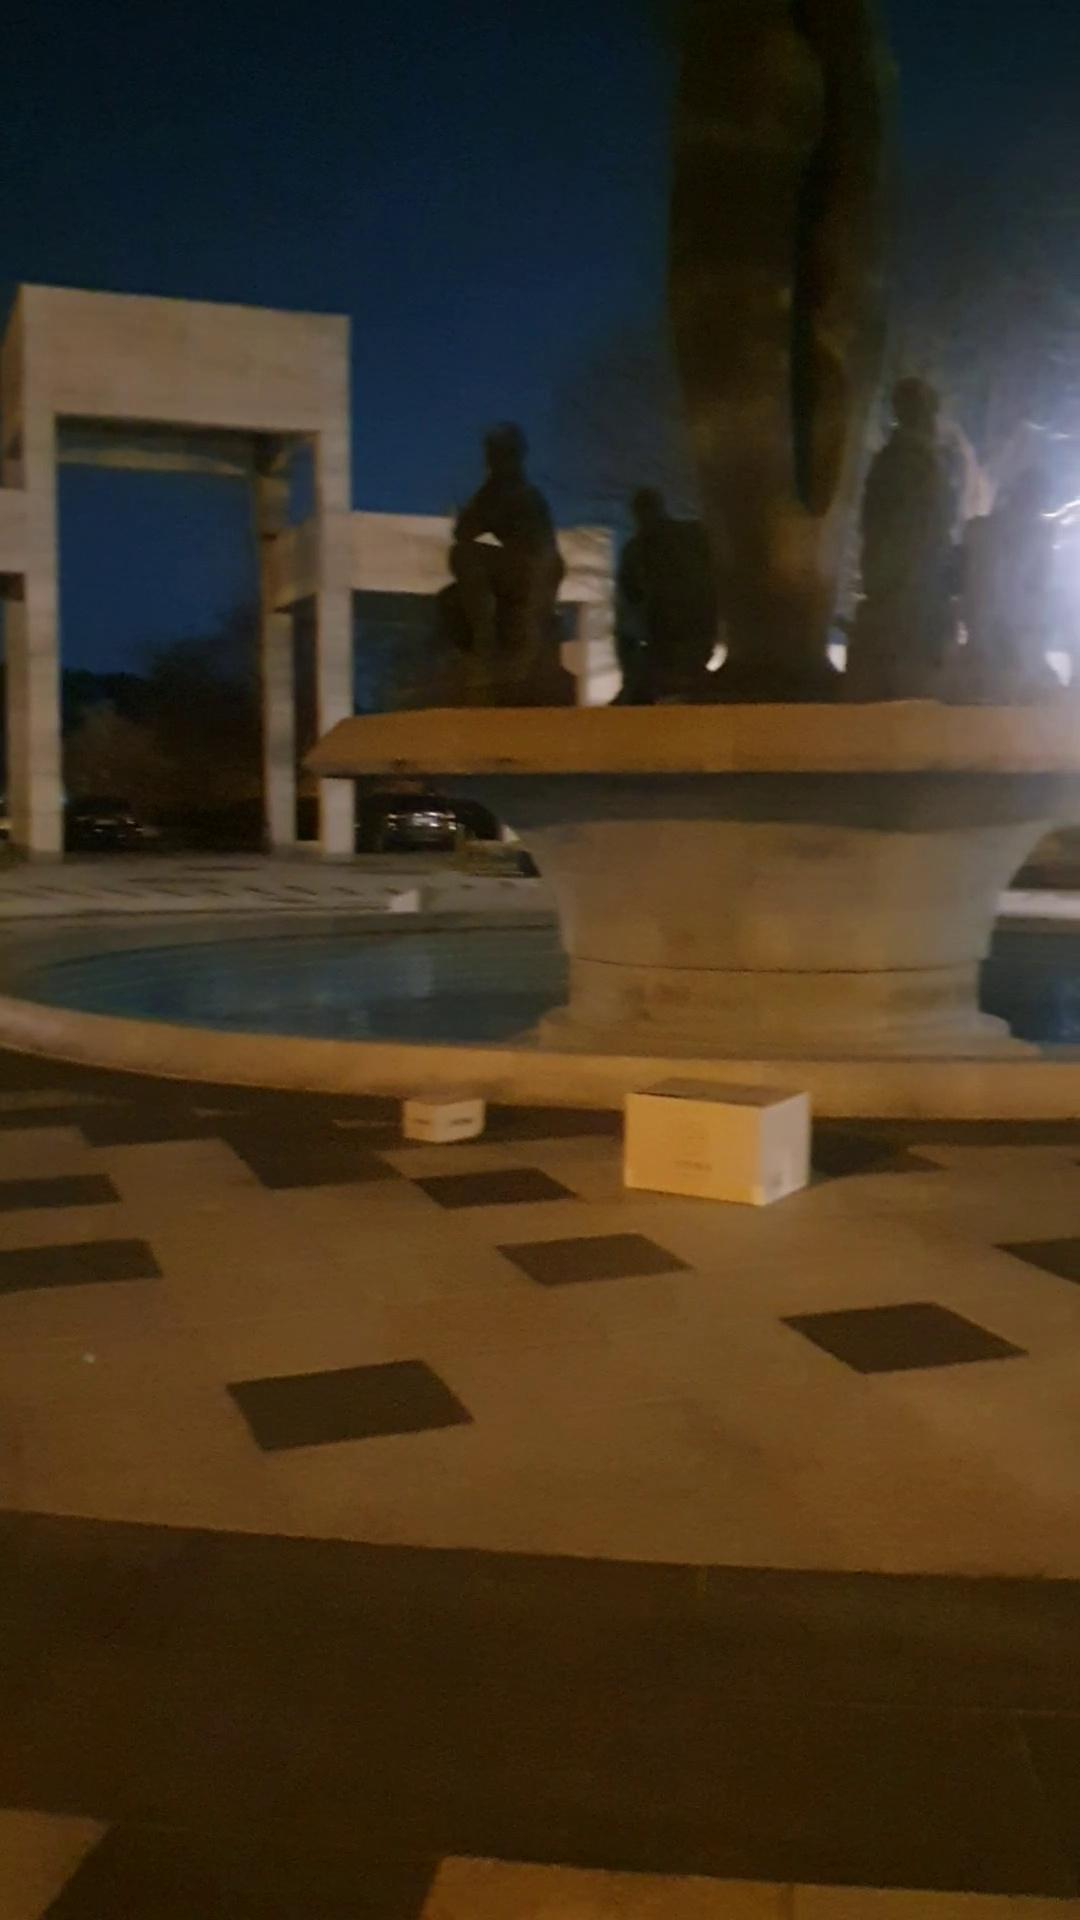Box: (622, 1065, 819, 1212), (392, 1083, 491, 1143)
